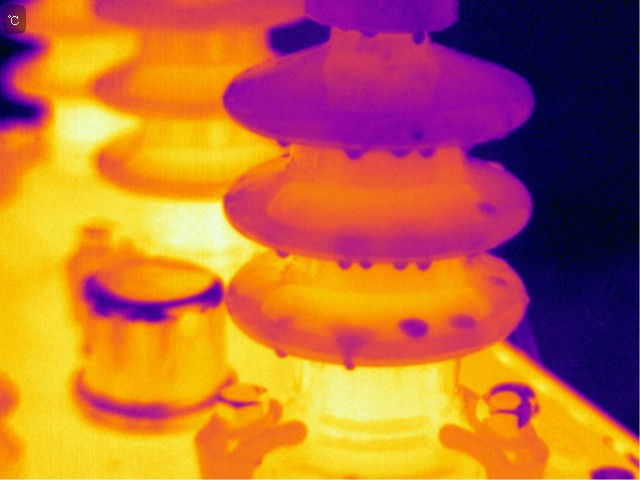Water: (337, 331, 359, 373), (399, 315, 429, 341), (413, 251, 438, 281), (446, 311, 477, 329), (391, 258, 417, 276), (409, 27, 429, 45), (360, 25, 381, 42), (358, 255, 376, 274), (474, 199, 493, 215), (419, 145, 436, 161), (344, 149, 365, 161), (490, 274, 508, 288), (272, 137, 294, 148), (390, 147, 414, 157), (336, 258, 354, 271), (274, 346, 289, 361), (274, 247, 290, 260), (411, 128, 426, 139)
